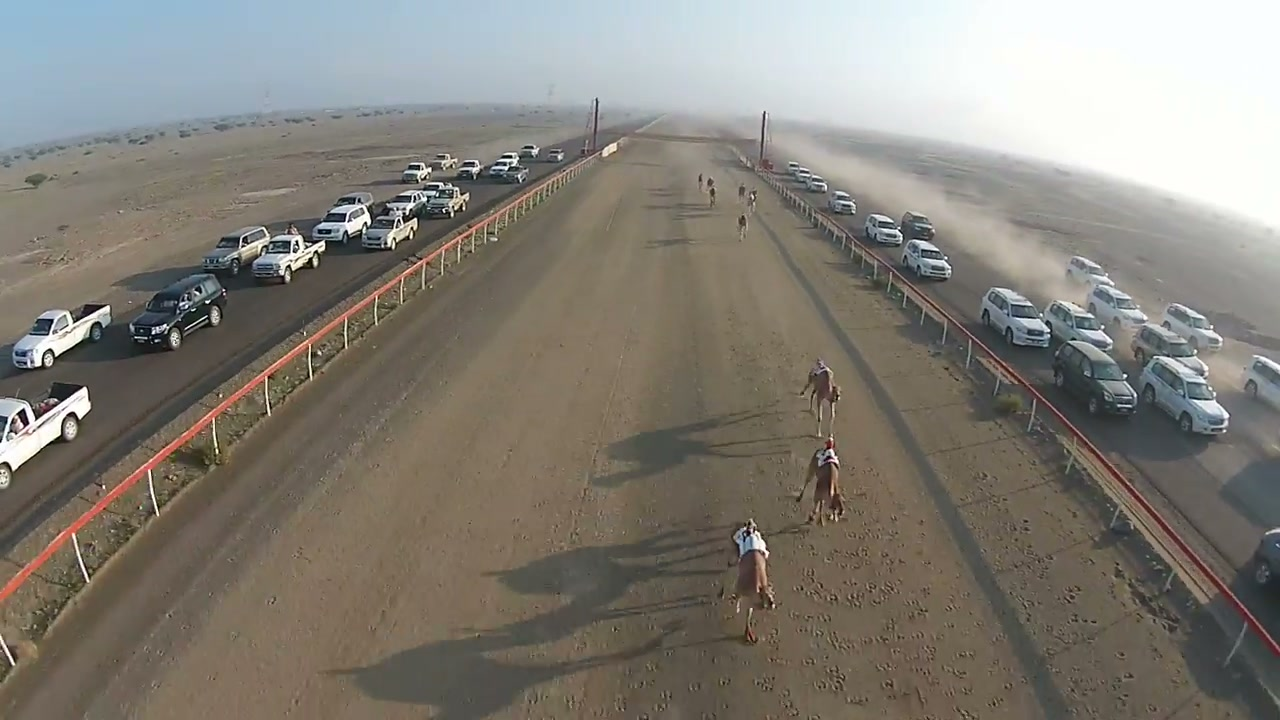animal_foot_print: (817, 486, 940, 719)
